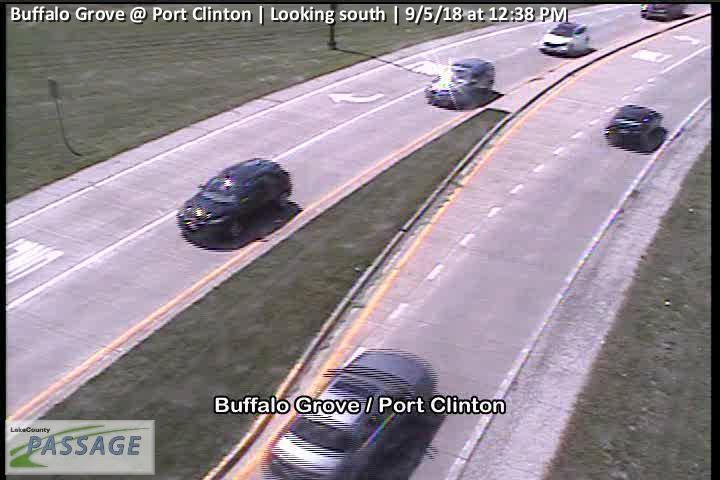Sedan: (261, 347, 433, 480), (175, 157, 292, 244), (425, 59, 496, 108), (605, 104, 664, 150), (538, 21, 590, 55), (640, 2, 688, 22)
